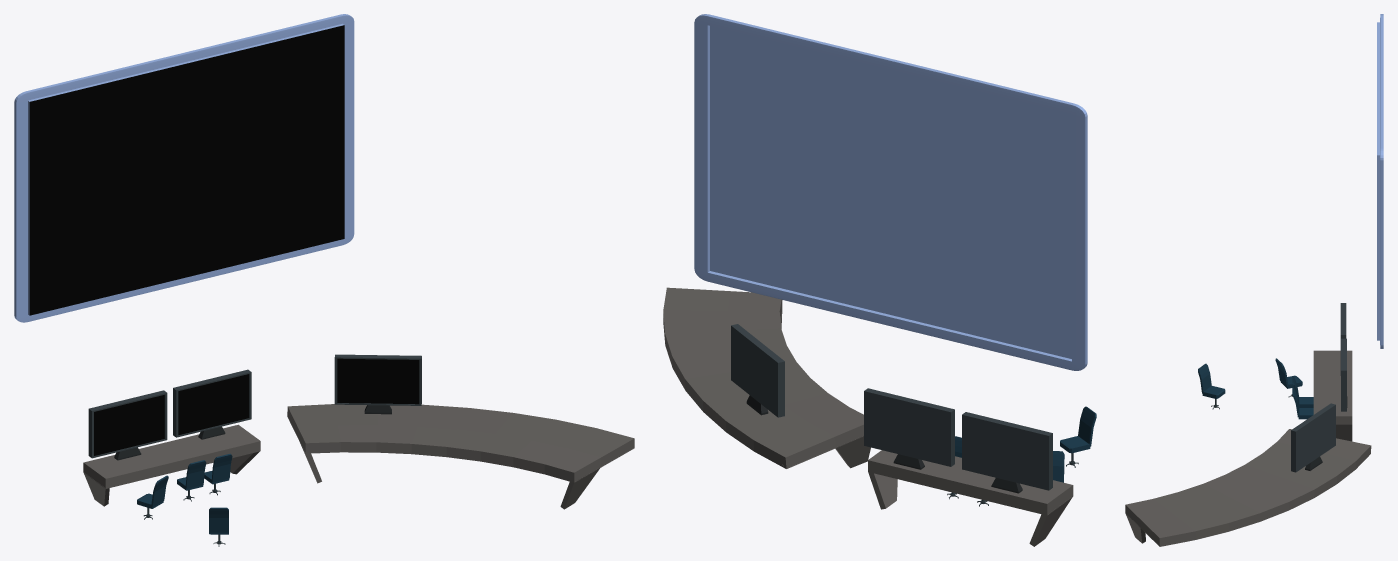
File: Items.glb
3 renders of one model, left to right at view 1: azimuth 30°, elevation 25°; view 2: azimuth 150°, elevation 25°; view 3: azimuth 270°, elevation 25°, orthographic. The views are drawn at different scales.
Visible parts, largest first — view 1: BillbaordScreen, Plane.001, BillboardScreenHolder, Plane, Screen, Screen.001, Screen.002, Cube, Cube.001, Cube.002; view 2: BillboardScreenHolder, Plane.001, Plane, Cube.001, Cube, Cube.002, Chair3; view 3: Plane.001, Plane, BillboardScreenHolder, Cube.002, Chair3, Cube.001, Chair4.
Boxes of the visible parts, <box> form: BillbaordScreen: <box>29,25,344,315</box>; Plane.001: <box>287,404,634,509</box>; BillboardScreenHolder: <box>14,14,354,322</box>; Plane: <box>83,424,260,506</box>; Screen: <box>337,358,419,404</box>; Screen.001: <box>178,374,248,435</box>; Screen.002: <box>94,395,164,455</box>; Cube: <box>88,390,167,460</box>; Cube.001: <box>173,369,251,439</box>; Cube.002: <box>334,354,421,414</box>; BillboardScreenHolder: <box>694,14,1087,370</box>; Plane.001: <box>663,287,870,468</box>; Plane: <box>868,450,1073,546</box>; Cube.001: <box>864,388,954,469</box>; Cube: <box>962,412,1052,493</box>; Cube.002: <box>731,324,784,417</box>; Chair3: <box>1060,406,1096,467</box>; Plane.001: <box>1125,429,1371,546</box>; Plane: <box>1313,350,1352,441</box>; BillboardScreenHolder: <box>1377,14,1383,348</box>; Cube.002: <box>1291,403,1335,472</box>; Chair3: <box>1198,363,1225,409</box>; Cube.001: <box>1341,338,1347,411</box>; Chair4: <box>1275,358,1302,397</box>.
Size of the model in its own units: 28.44 by 22.68 by 14.97.
